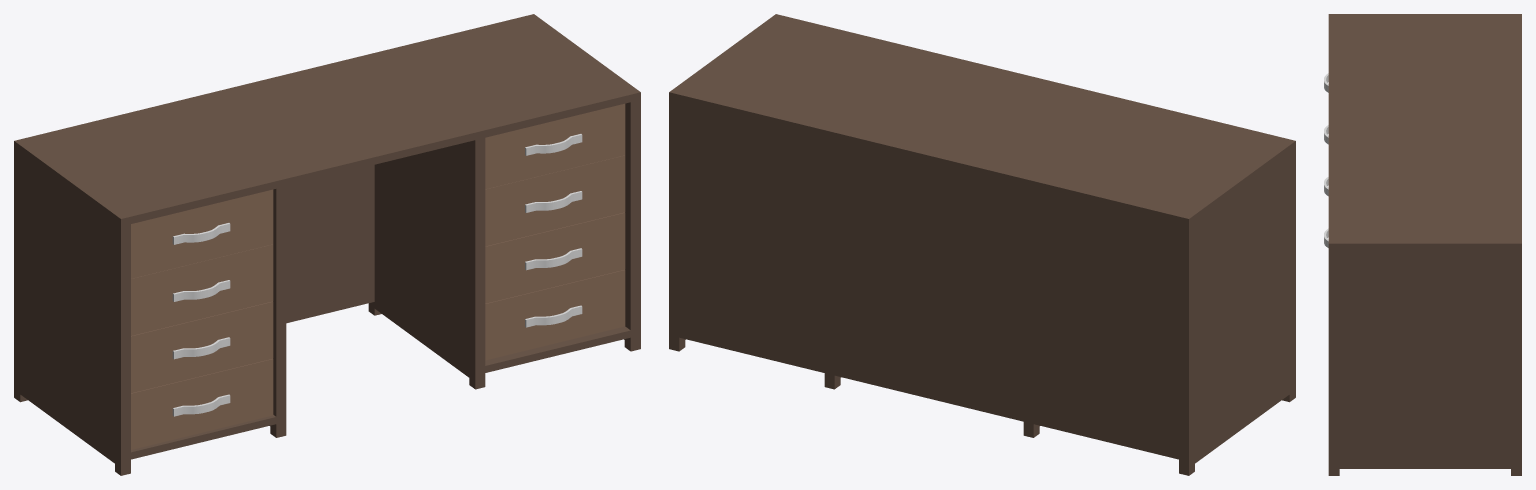
File: table2_W.fbx
3 renders of one model, left to right at view 1: azimuth 30°, elevation 25°; view 2: azimuth 150°, elevation 25°; view 3: azimuth 270°, elevation 25°, orthographic. The views are drawn at different scales.
Parts seen in each view (by area): view 1: FurnitureSet_05_v_07, polySurface5, polySurface3, polySurface7, polySurface13, polySurface11, polySurface15, polySurface1, polySurface9; view 2: FurnitureSet_05_v_07; view 3: FurnitureSet_05_v_07.
Boxes of the visible parts, x1,y1,x2,y2 form: FurnitureSet_05_v_07: (14,14,640,475); polySurface5: (131,301,273,393); polySurface3: (131,244,273,335); polySurface7: (131,359,273,449); polySurface13: (485,212,625,303); polySurface11: (485,155,625,246); polySurface15: (485,270,625,360); polySurface1: (131,189,273,278); polySurface9: (485,103,625,189); FurnitureSet_05_v_07: (669,14,1295,475); FurnitureSet_05_v_07: (1328,14,1521,475).
Size of the model in its own units: 158 by 74.49 by 57.5.
